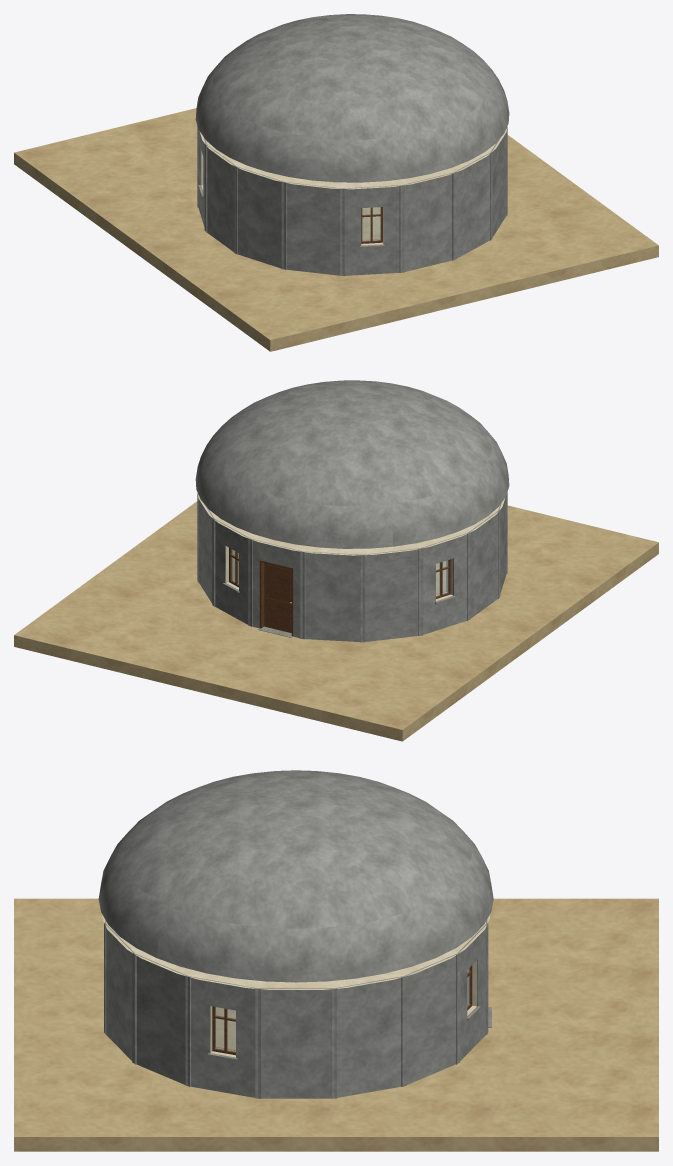
The model's file is b_printed_dome_home.gltf.
The picture shows the model from 3 angles, top to bottom: view 1: azimuth 30°, elevation 25°; view 2: azimuth 150°, elevation 25°; view 3: azimuth 270°, elevation 25°; orthographic projection. The views are drawn at different scales.
Parts seen in each view (by area): view 1: S_printed_dome_home; view 2: S_printed_dome_home, D_printed_dome_home_F1_11_0_Door0; view 3: S_printed_dome_home.
Part boxes in pixels (<box>): S_printed_dome_home: <box>14,14,658,351</box>; S_printed_dome_home: <box>14,380,658,741</box>; D_printed_dome_home_F1_11_0_Door0: <box>264,563,291,632</box>; S_printed_dome_home: <box>14,770,658,1151</box>.
Bounding box in the file's own units: 14 × 6.34 × 16.
Materials: 12 (8 with a texture image).
